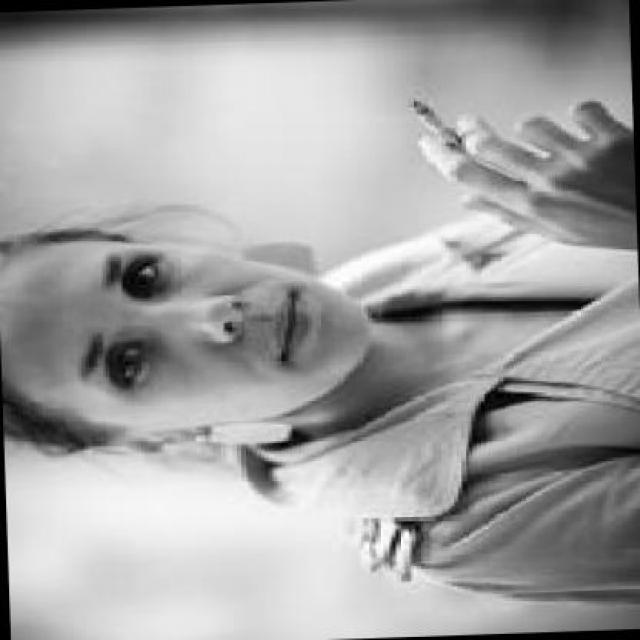smoke: (409, 94, 463, 150)
